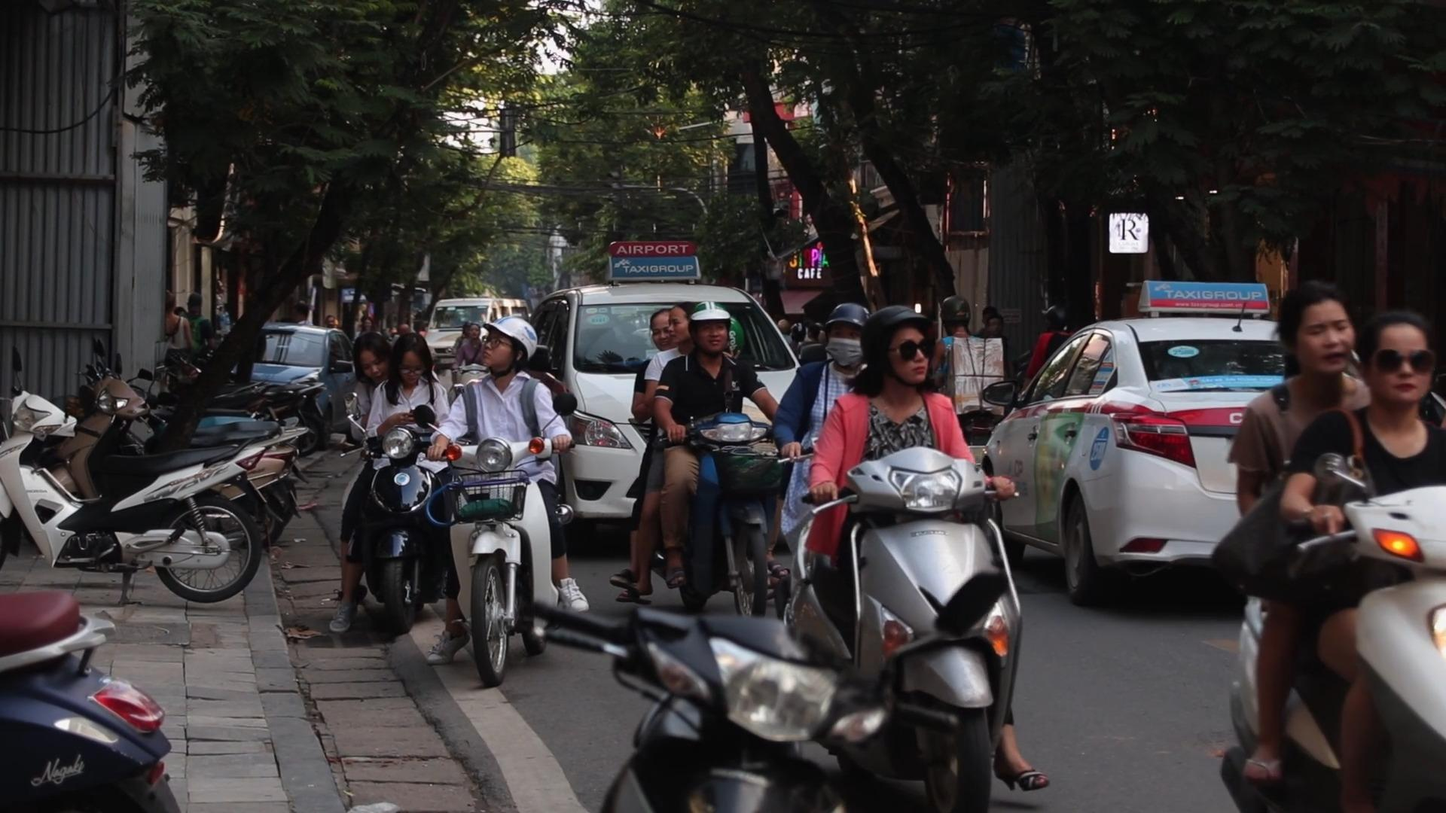driver: (782, 303, 1049, 813), (1210, 282, 1446, 813), (413, 315, 590, 687), (609, 301, 792, 620), (329, 332, 449, 633)
helmet: (861, 305, 930, 387), (482, 315, 538, 374), (824, 304, 871, 367), (688, 300, 731, 356), (940, 295, 971, 335), (1042, 305, 1072, 332)
no-helmet: (1356, 309, 1437, 404), (1278, 282, 1355, 376), (389, 332, 432, 383), (353, 332, 391, 383), (669, 301, 697, 344), (650, 308, 678, 351)
